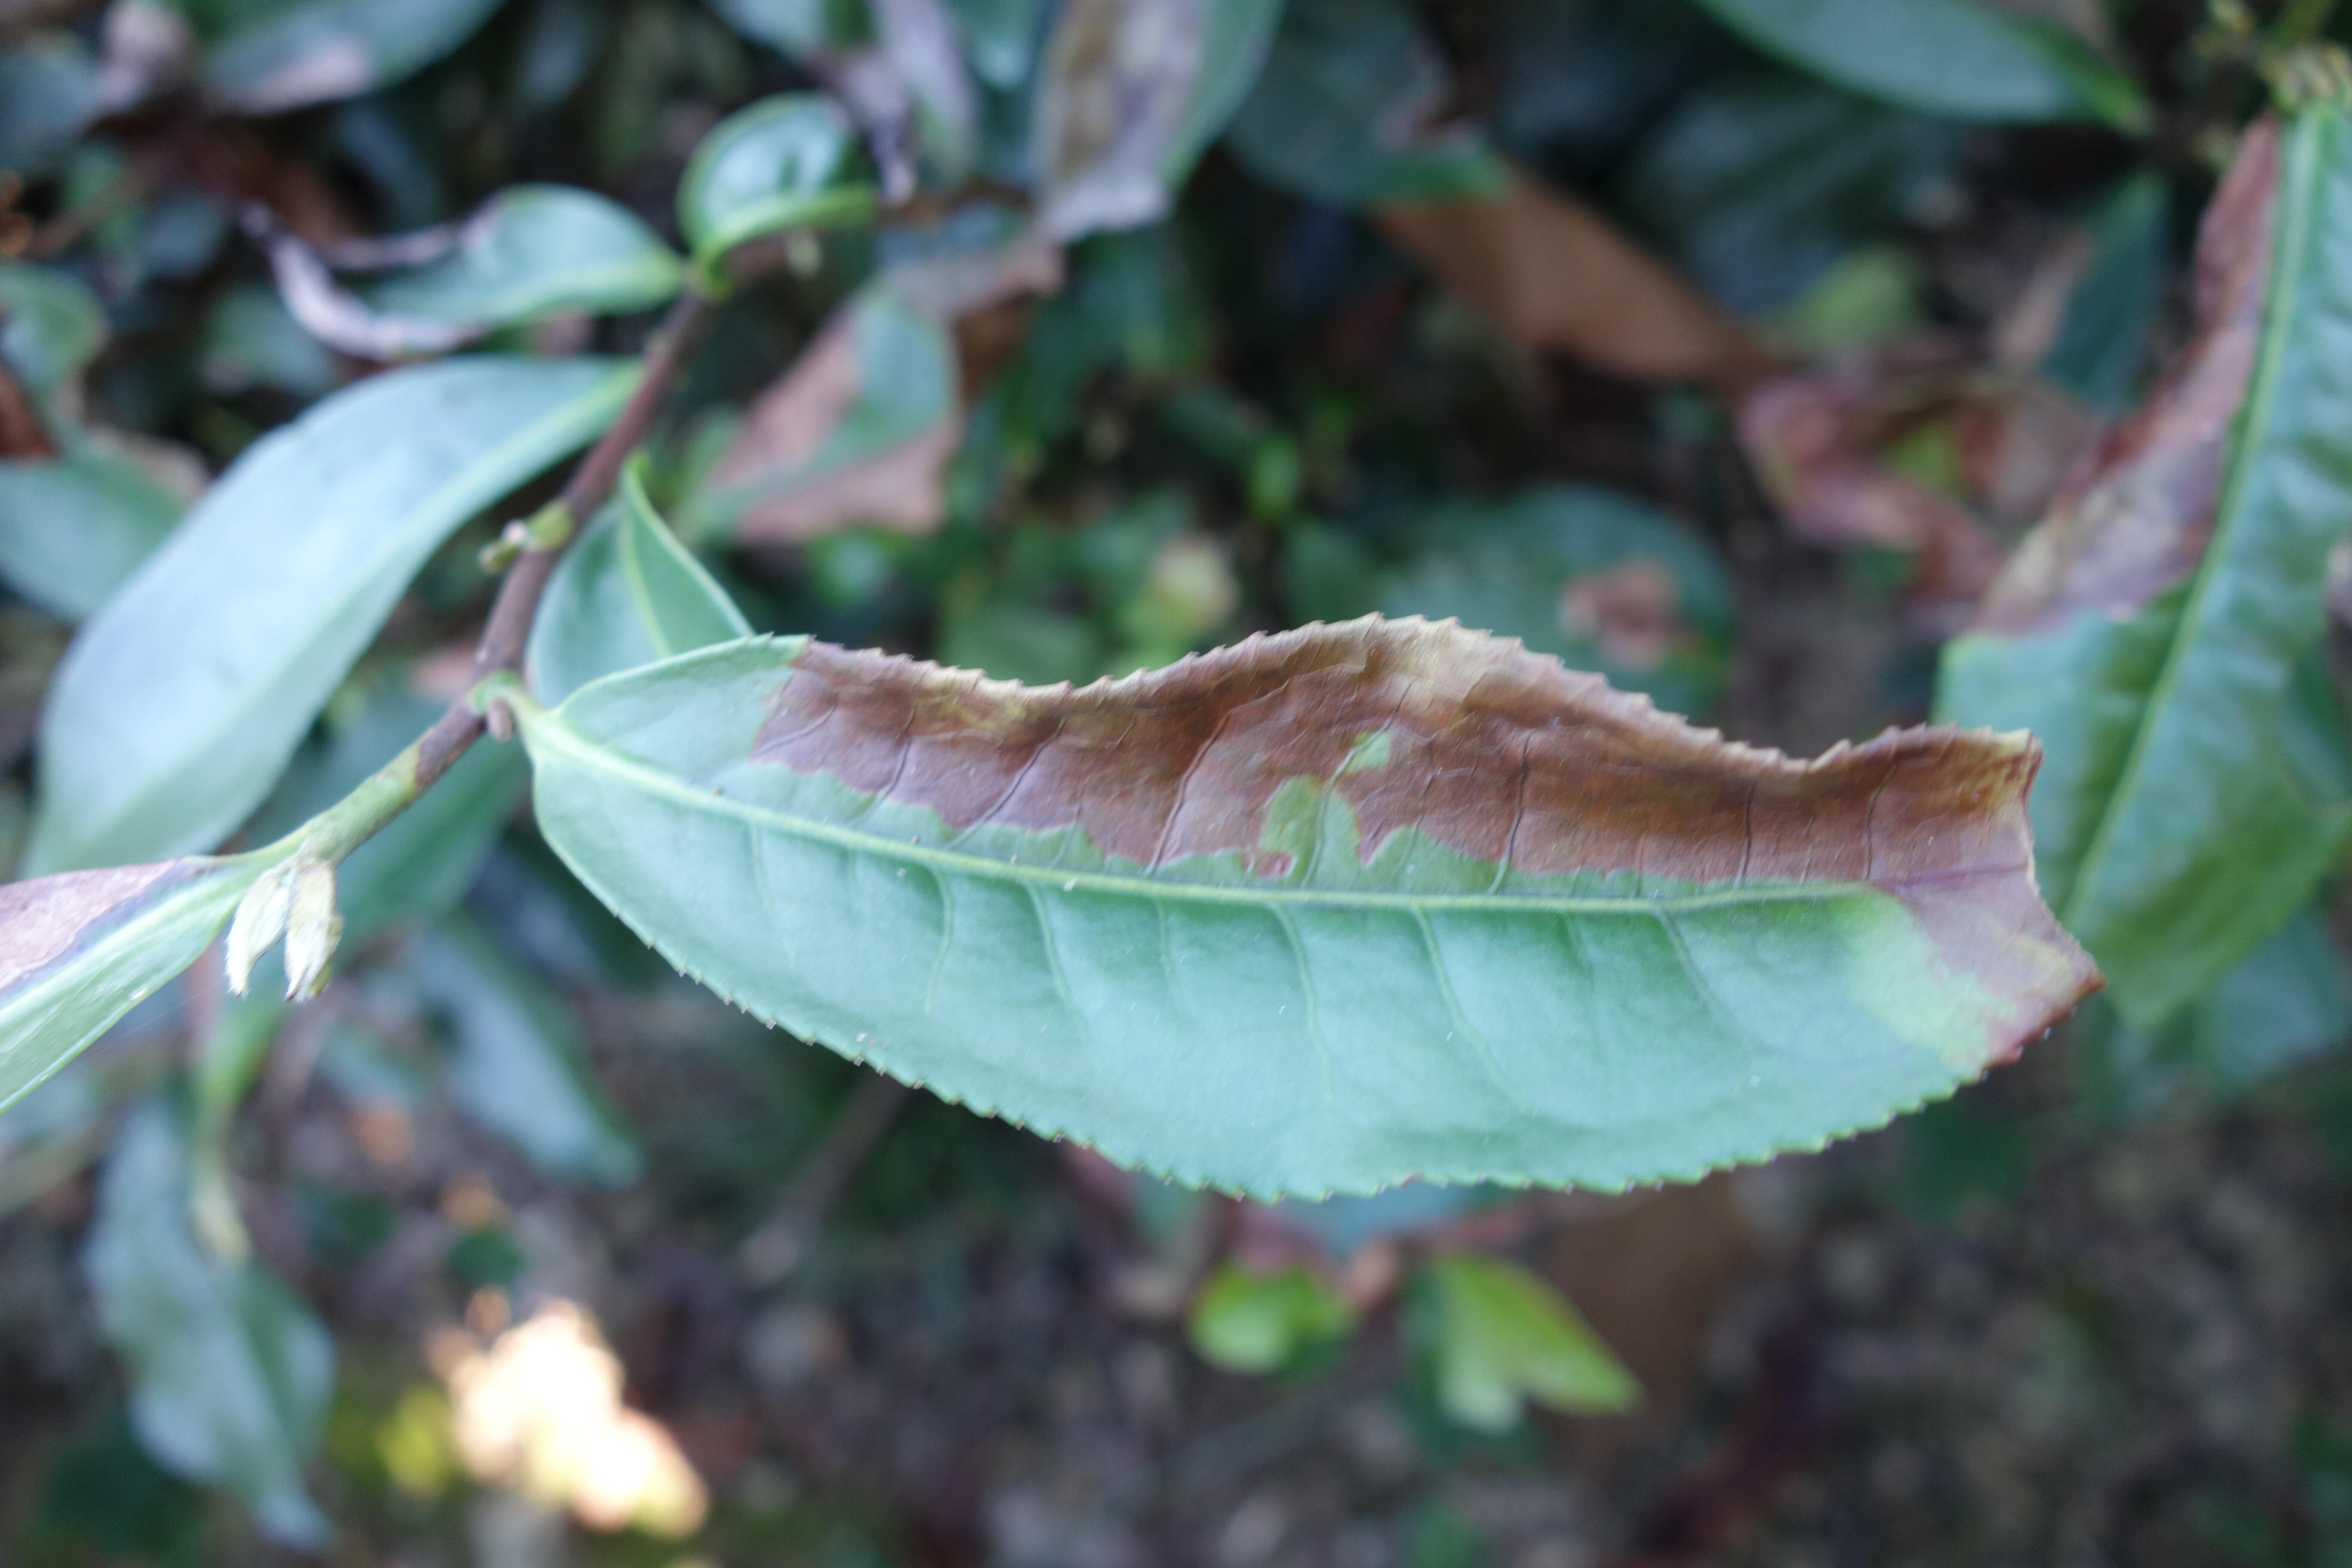tanju_high: (521, 623, 2098, 1202)
